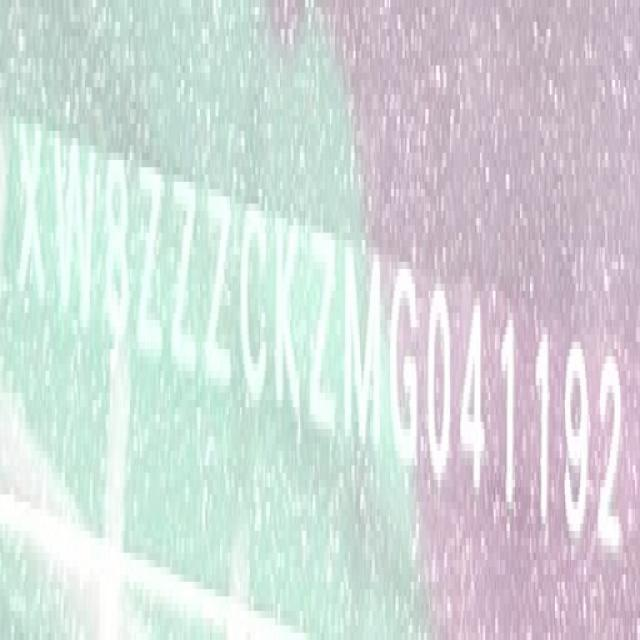0: (426, 273, 454, 487)
1: (500, 301, 518, 527), (534, 318, 551, 537)
2: (599, 354, 625, 558)
4: (460, 285, 487, 504)
8: (106, 148, 131, 350)
9: (562, 338, 590, 544)
C: (241, 195, 270, 408)
G: (390, 258, 422, 485)
K: (277, 209, 306, 426)
M: (345, 232, 384, 460)
W: (54, 128, 100, 337)
X: (18, 110, 46, 316)
Z: (172, 169, 200, 381), (310, 223, 337, 442), (206, 180, 232, 391), (138, 161, 164, 365)
